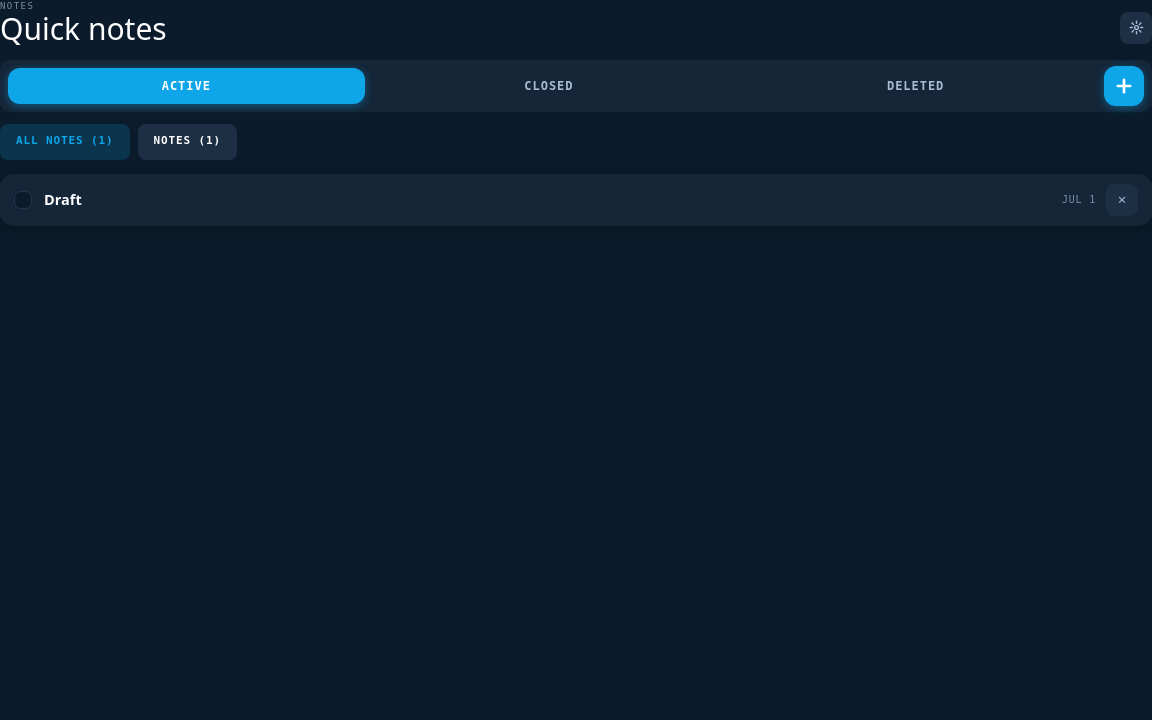
NotesPage › saves and closes when choosing Save from the unsaved-changes prompt
Step 1. Click the text "Draft" → (63, 199), box left=44, top=189, right=82, bottom=209
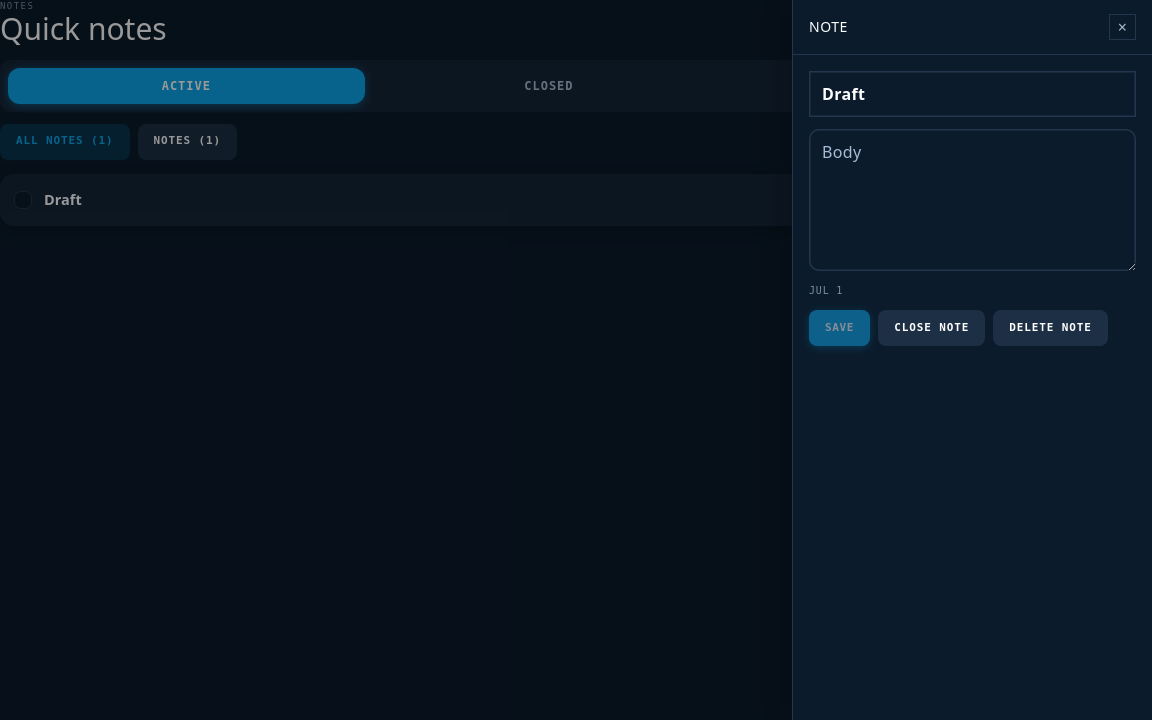
Step 2. Replace the text in the field named "Note title" with "Renamed" → (972, 94), box left=809, top=71, right=1136, bottom=117
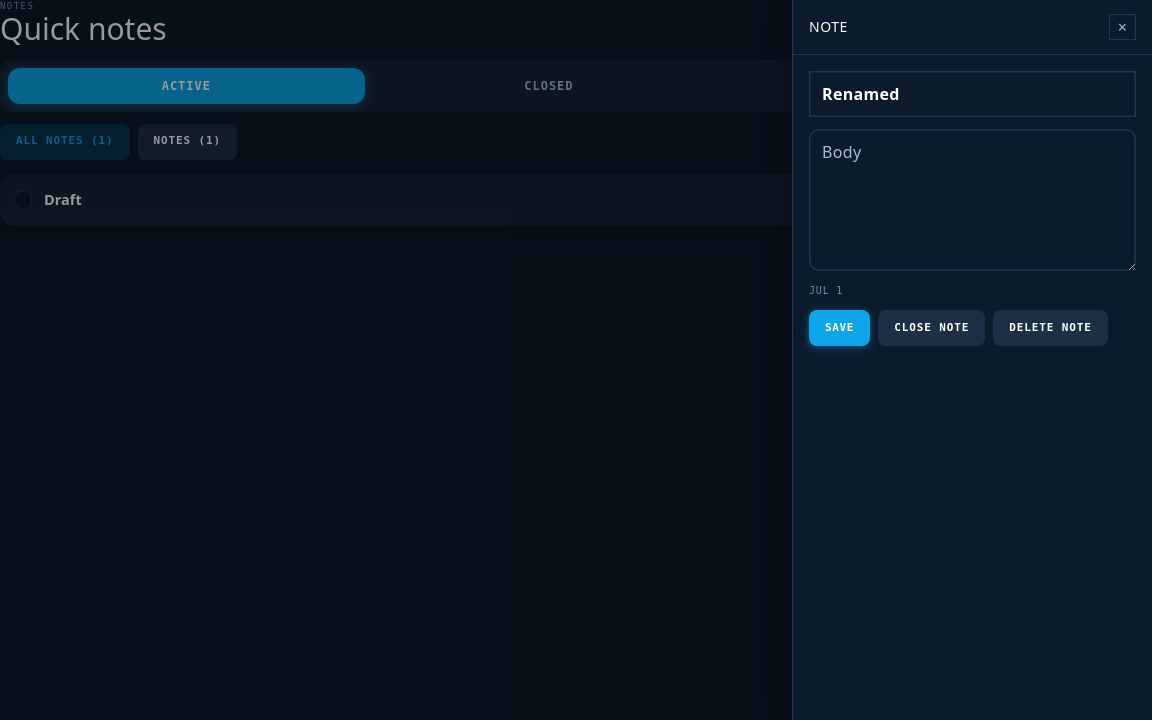
# Close the drawer to raise the prompt, then choose Save inside it.
Step 3. Click the button named "Close" → (1122, 27), box left=1109, top=14, right=1136, bottom=40
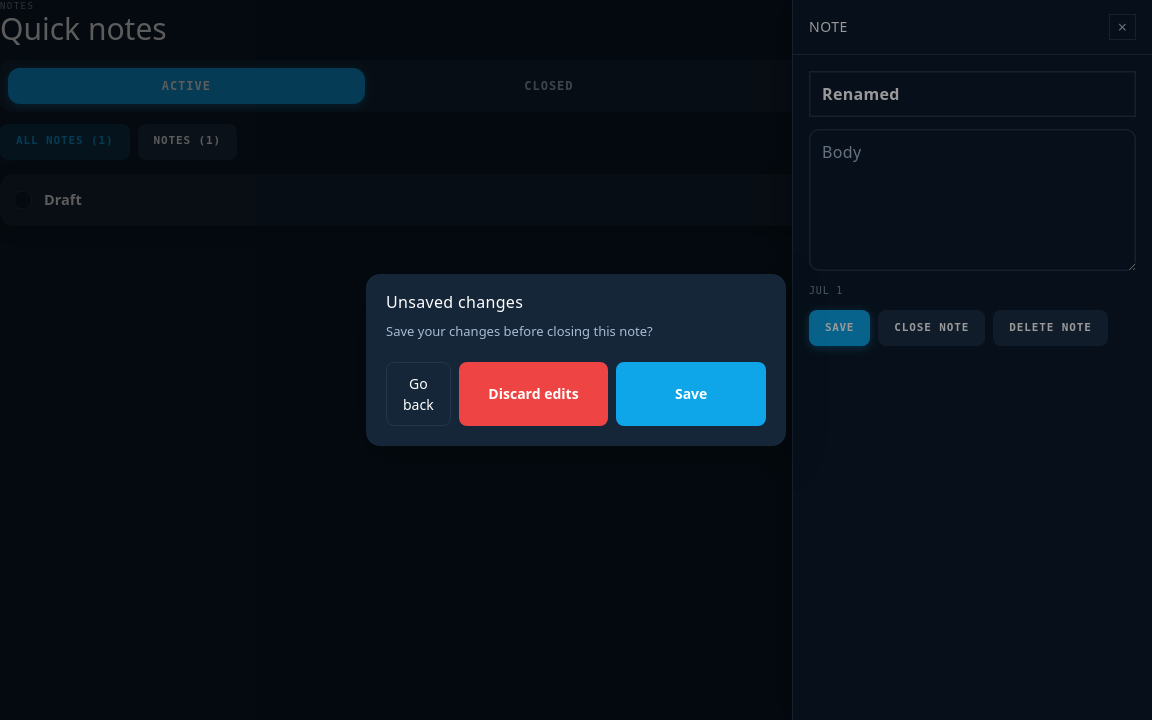
Step 4. Click the button "Save" → (691, 394), box left=616, top=362, right=766, bottom=426
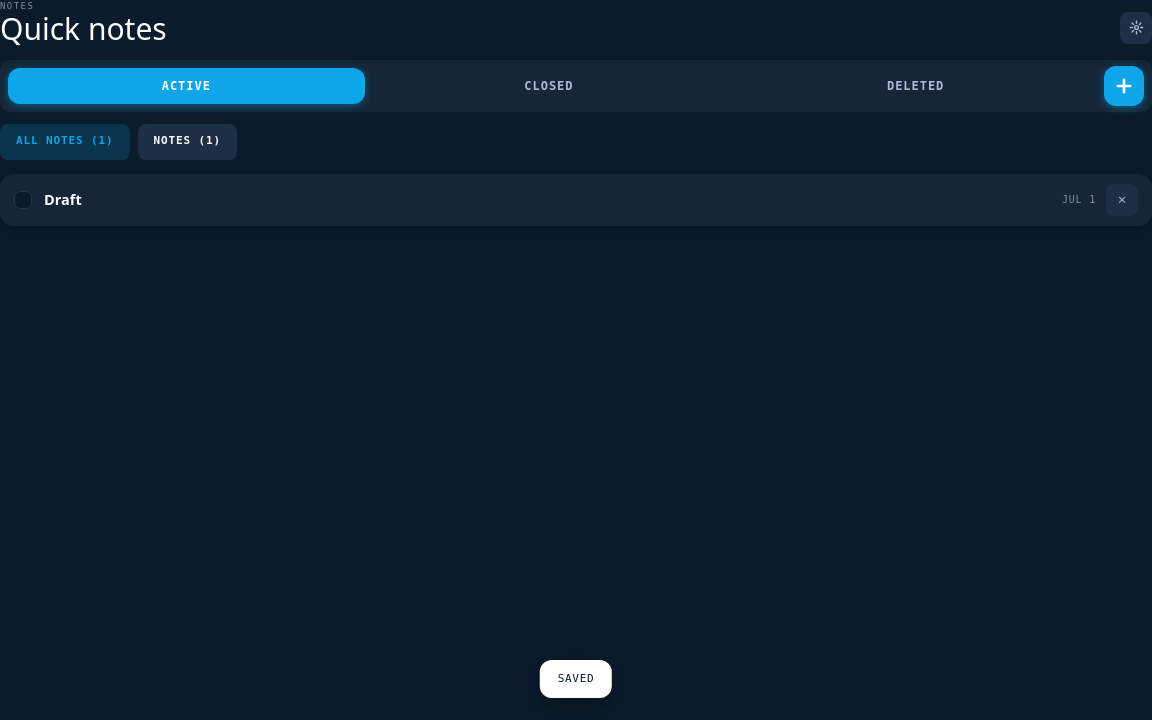
Expected: the field labelled "Note title" is gone
Expected: the dialog is gone
